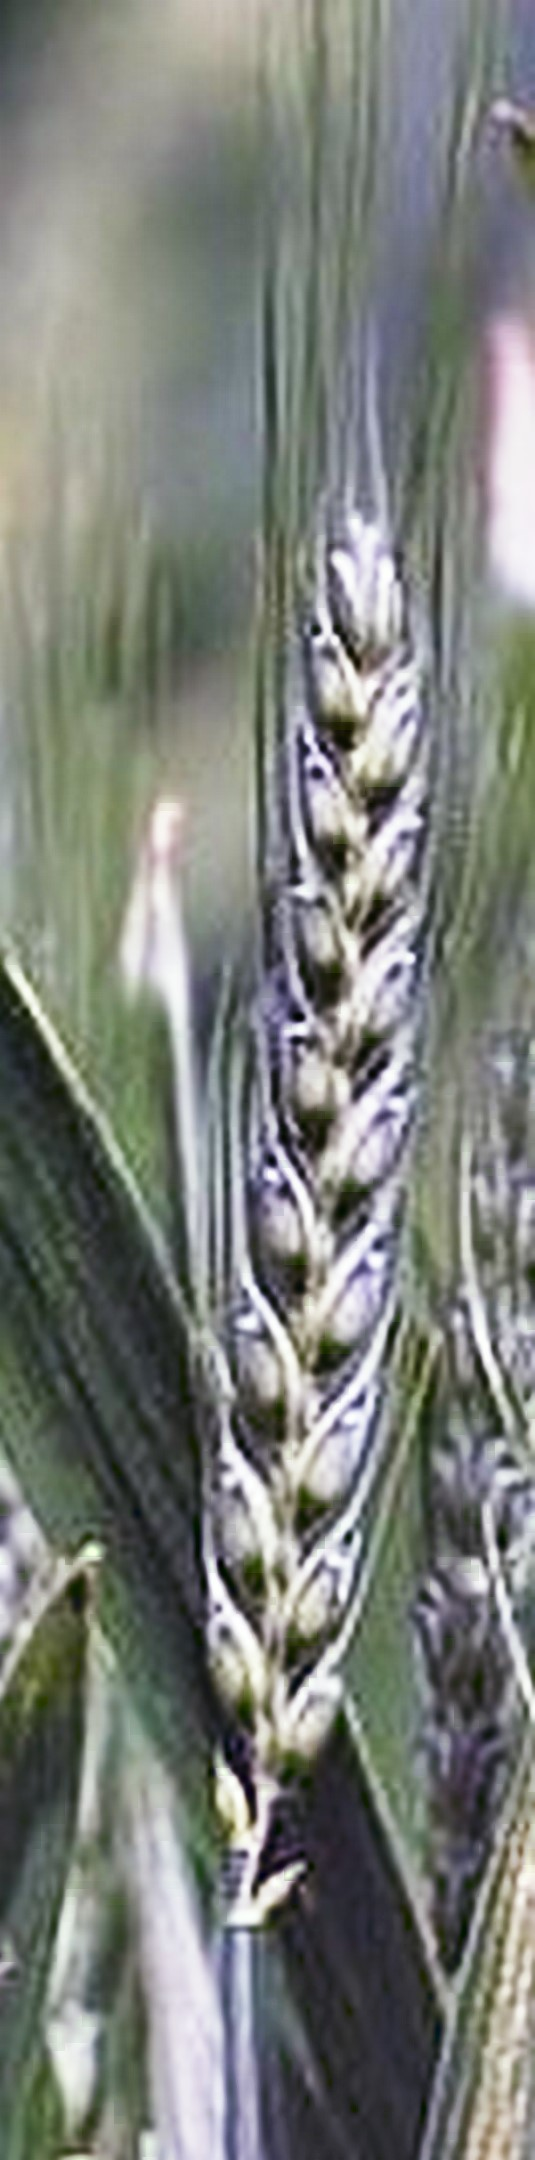Healthy Wheat: (192, 452, 450, 1787)
